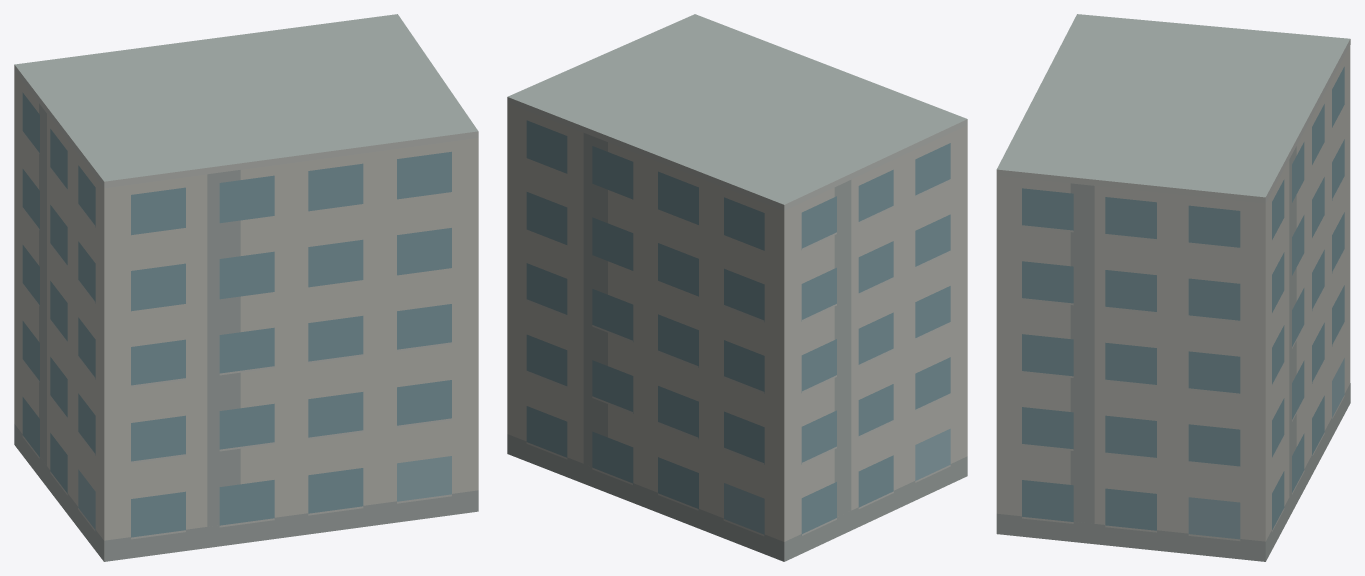
File: survey-upis-33022211.glb
The picture shows the model from 3 angles, left to right: view 1: azimuth 30°, elevation 25°; view 2: azimuth 150°, elevation 25°; view 3: azimuth 270°, elevation 25°; orthographic projection. The views are drawn at different scales.
Visible parts, largest first — view 1: survey-upis-33022211.tmp; view 2: survey-upis-33022211.tmp; view 3: survey-upis-33022211.tmp.
Part boxes in pixels (x1,y1,x2,y2): survey-upis-33022211.tmp: (14,14,478,561); survey-upis-33022211.tmp: (507,14,967,561); survey-upis-33022211.tmp: (996,14,1350,561).
Bounding box in the file's own units: 15.44 × 14.3 × 12.59.
